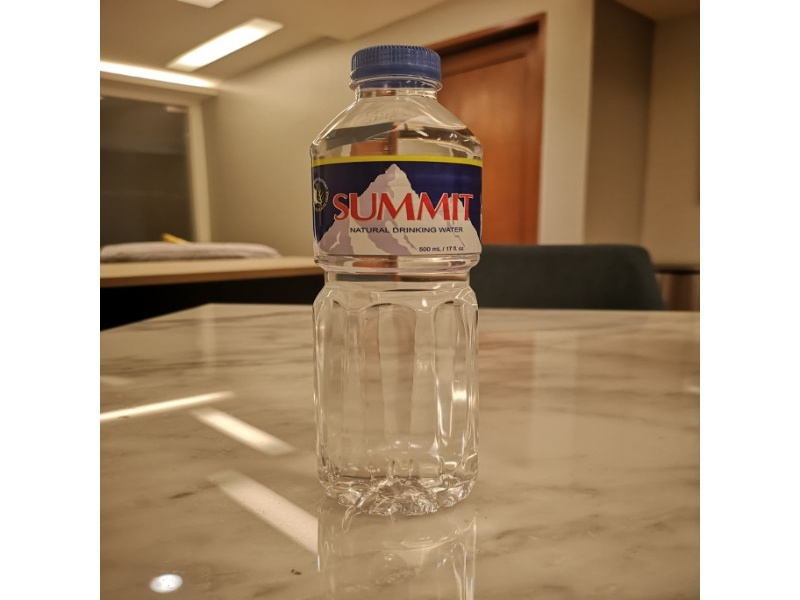PET #1: (303, 39, 485, 520)
